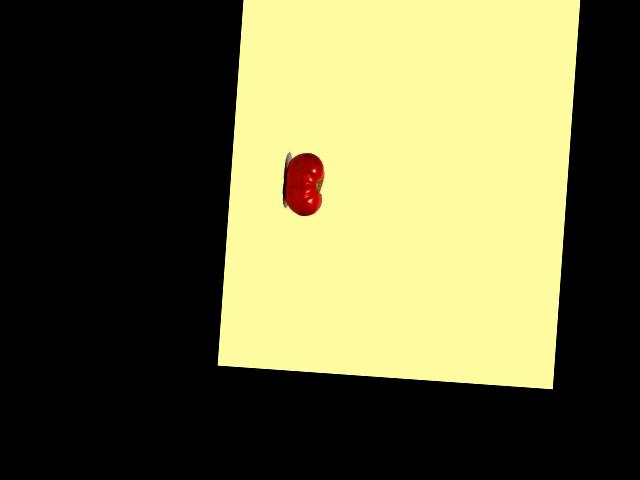tomato: (282, 152, 325, 217)
